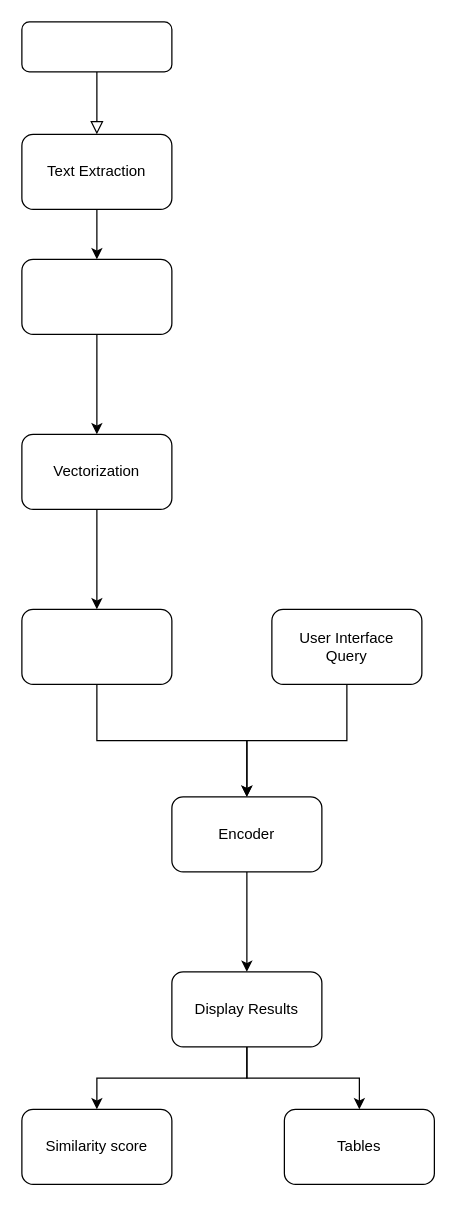
The diagram is 456 pixels wide and 1206 high, and some of its shapes have lost their labels. The shapes that lost their labels are listed below. From the top down, each one's centre as x and y in pixels, then its label:
point 96,46: PDF Upload
point 96,296: Text Processing
point 96,646: Cosine Similarity
